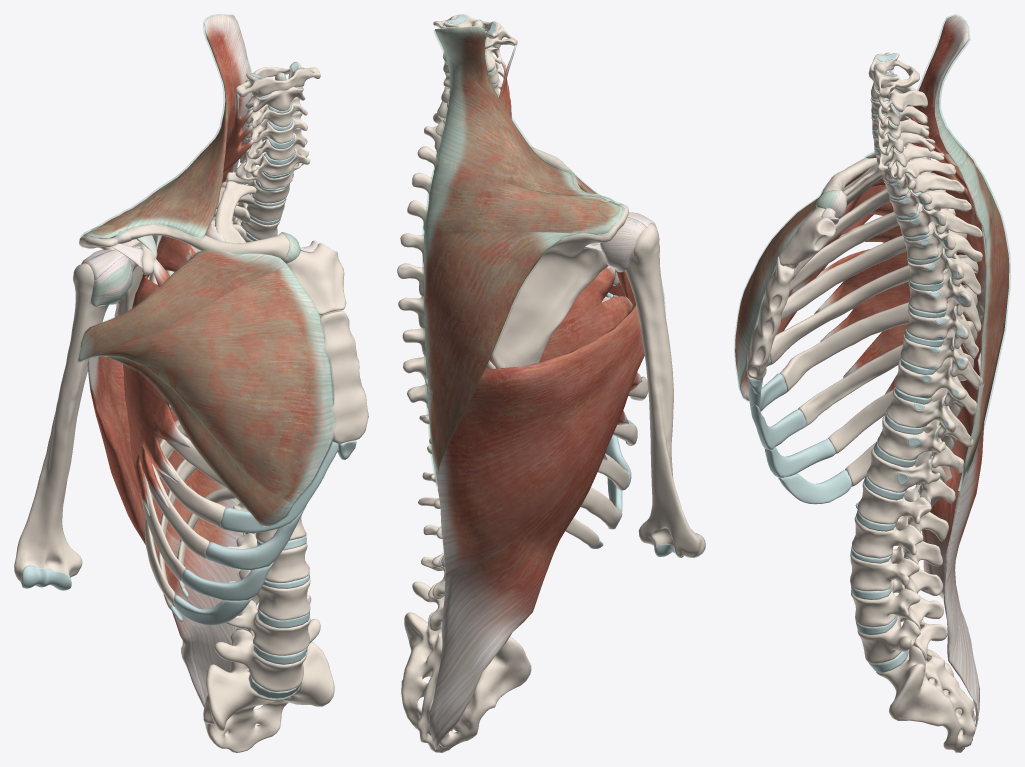
Rendered from open3dmodel-upper-limb-axio-appendicular-muscles.glb.
The picture shows the model from 3 angles, left to right: view 1: azimuth 30°, elevation 25°; view 2: azimuth 150°, elevation 25°; view 3: azimuth 270°, elevation 25°; orthographic projection. The views are drawn at different scales.
Parts seen in each view (by area): view 1: Pectoralis major.r, Sternocostal head of pectoralis major muscle.r, Latissimus dorsi.r, Humerus.r, Trapezius muscle.r, Sacrum, Clavicular head of pectoralis major muscle.r, Serratus anterior muscle.r, Descending part of Trapezius muscle.r, Body of sternum, Abdominal head of pectoralis major muscle.r, Lumbar vertebra (L5) (+30 smaller); view 2: Latissimus dorsi.r, Trapezius muscle.r, Humerus.r, Descending part of Trapezius muscle.r, Scapula.r, Transverse part of trapezius muscle.r, Sacrum, Ascending part of Trapezius muscle.r, Serratus anterior muscle.r, Articular capsule of glenohumeral joint.r, Rib (10th).r, Atlas (C1) (+3 smaller); view 3: Trapezius muscle.r, Latissimus dorsi.r, Sacrum, Serratus anterior muscle.r, Pectoralis major.r, Rib (7th).r, Rib (6th).r, Body of sternum, Lumbar vertebra (L3), Lumbar vertebra (L2), Lumbar vertebra (L1), Lumbar vertebra (L4) (+37 smaller).
Boxes of the visible parts, x1,y1,x2,y2 form: Pectoralis major.r: (78,249,334,526); Sternocostal head of pectoralis major muscle.r: (82,264,334,504); Latissimus dorsi.r: (87,356,244,707); Humerus.r: (14,263,109,583); Trapezius muscle.r: (83,14,252,238); Sacrum: (203,642,334,752); Clavicular head of pectoralis major muscle.r: (78,249,286,362); Serratus anterior muscle.r: (123,224,225,515); Descending part of Trapezius muscle.r: (127,14,251,238); Body of sternum: (319,310,368,443); Abdominal head of pectoralis major muscle.r: (104,356,293,527); Lumbar vertebra (L5): (214,619,320,691); Latissimus dorsi.r: (427,304,644,749); Trapezius muscle.r: (423,26,622,485); Humerus.r: (625,224,705,557); Descending part of Trapezius muscle.r: (434,26,600,196); Scapula.r: (491,203,628,368); Transverse part of trapezius muscle.r: (422,154,624,239); Sacrum: (401,611,531,752); Ascending part of Trapezius muscle.r: (422,231,591,486); Serratus anterior muscle.r: (539,267,642,460); Articular capsule of glenohumeral joint.r: (600,217,645,272); Rib (10th).r: (580,487,621,528); Atlas (C1): (433,14,517,49); Trapezius muscle.r: (866,15,1009,490); Latissimus dorsi.r: (916,320,984,736); Sacrum: (876,620,976,752); Serratus anterior muscle.r: (814,167,985,394); Pectoralis major.r: (735,173,886,400); Rib (7th).r: (779,285,977,392); Rib (6th).r: (770,254,978,365); Body of sternum: (747,256,794,380); Lumbar vertebra (L3): (850,546,942,595); Lumbar vertebra (L2): (852,516,942,566); Lumbar vertebra (L1): (857,481,948,541); Lumbar vertebra (L4): (851,580,943,630).
Size of the model in its own units: 0.3097 by 0.7175 by 0.2506.
53 materials, 5 textured.
